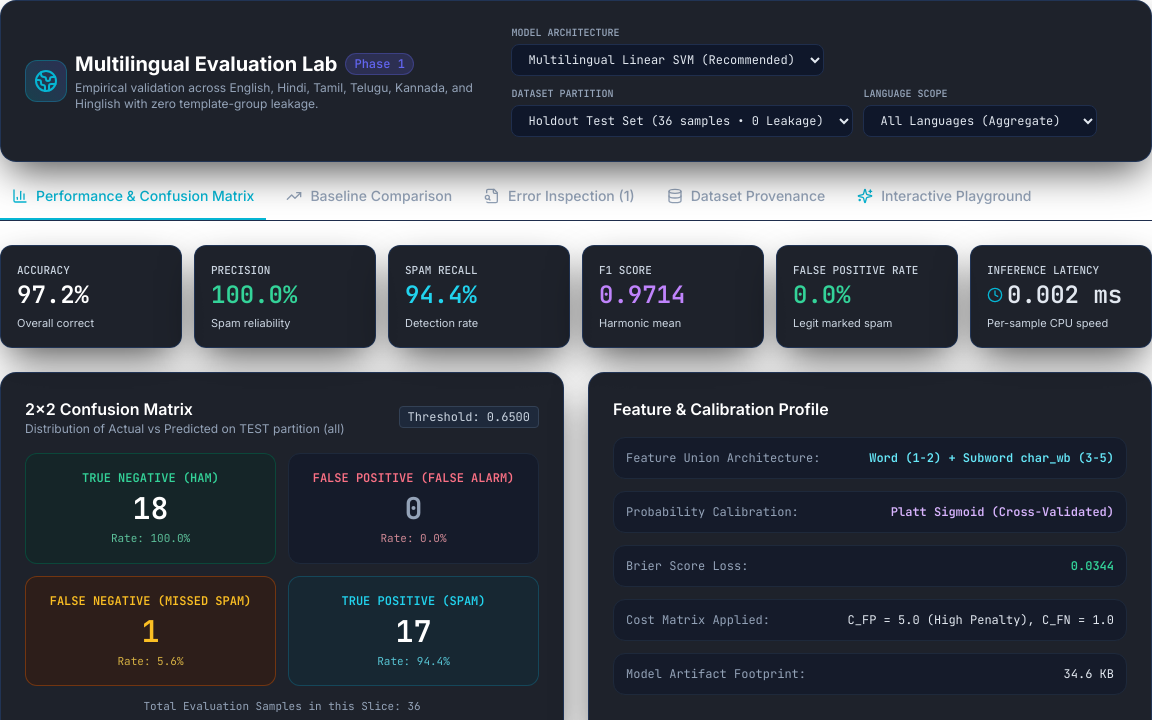
Test: EvaluationLabView Component › allows selecting demo sample and running prediction in Multilingual Playground
Expected: the text "97.2%" is shown, x1=17 y1=278 x2=89 y2=310
Click the button "Interactive Playground" at (944, 203), box x1=845 y1=186 x2=1044 y2=220
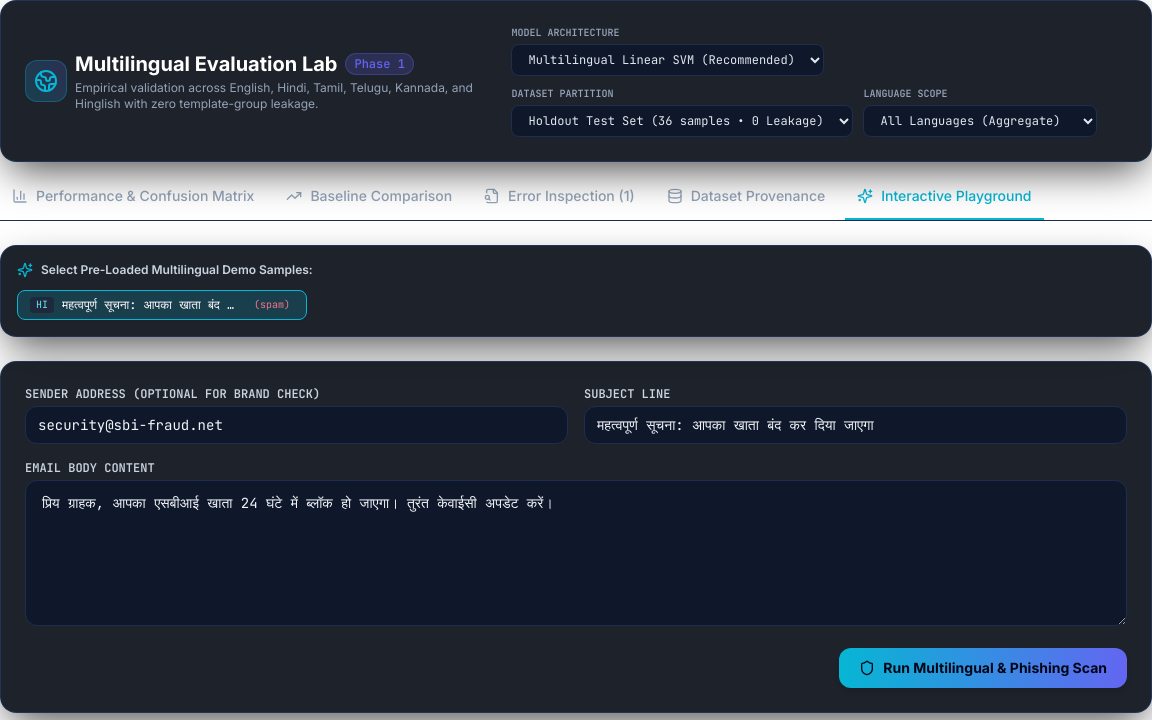
Now the text "महत्वपूर्ण सूचना: आपका खाता बंद कर दिया जाएगा" is shown, box x1=62 y1=297 x2=242 y2=313
Click analyze button
Click the button "Run Multilingual & Phishing Scan" at (983, 668), box x1=839 y1=648 x2=1127 y2=688
(page scrolled)
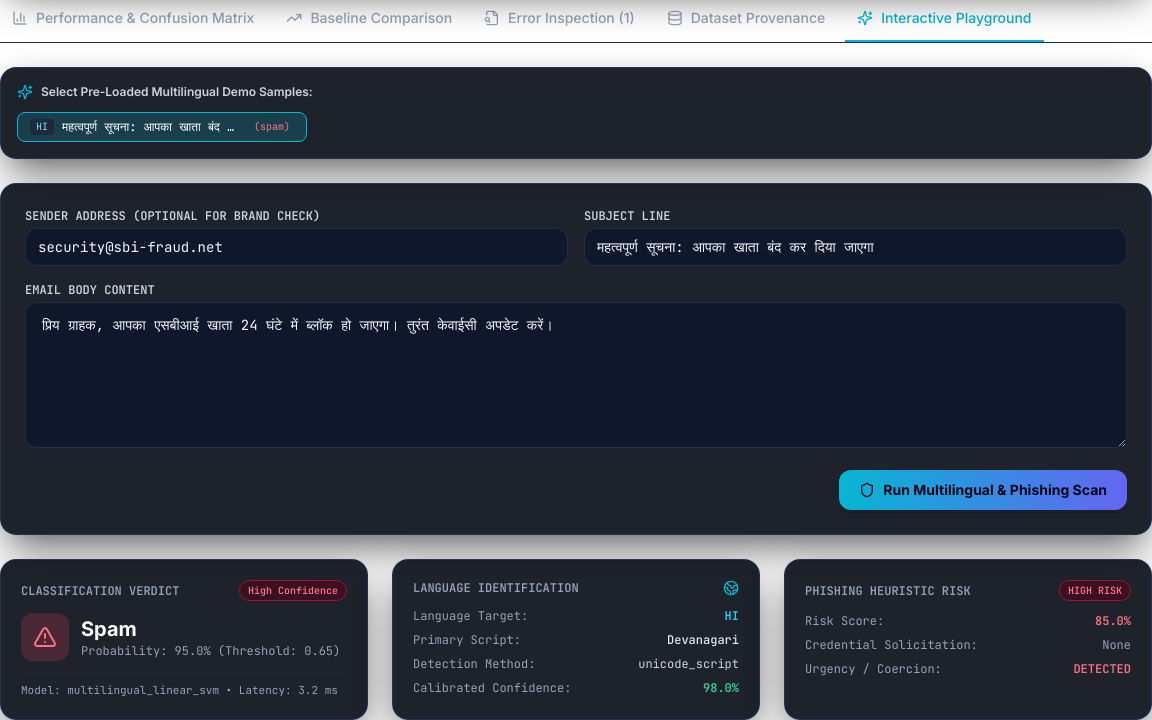
Now the text "Devanagari" is shown, box x1=667 y1=632 x2=739 y2=648
Now the text "high Risk" is shown, box x1=1059 y1=580 x2=1131 y2=601
